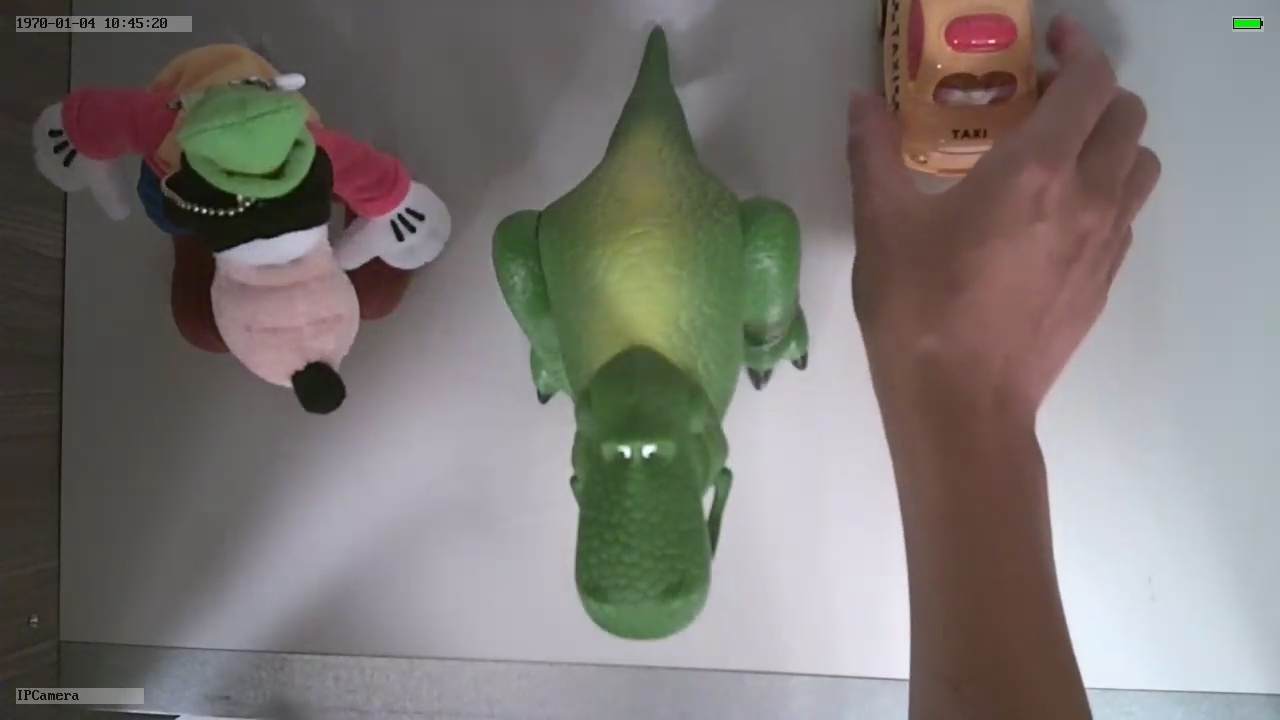goofy: (34, 38, 456, 412)
rex: (491, 109, 812, 639)
